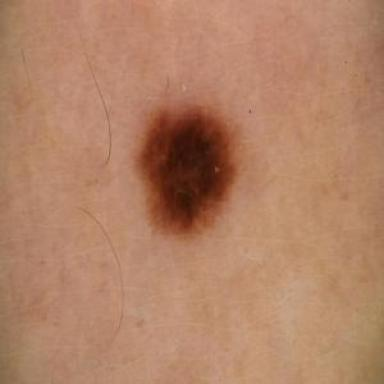Melanoma: (139, 104, 235, 230)
